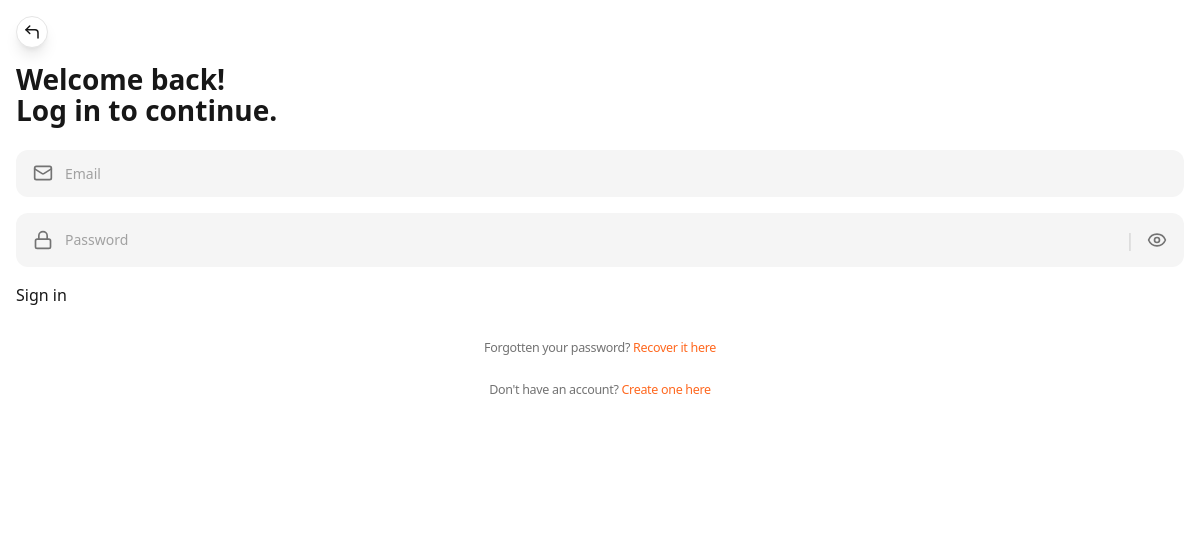
SignInForm › shows a wrong code's reason and keeps the code step
Type "admin@campusmart.test" into the field with placeholder "Email" at (616, 173), box [65,163,1167,184]
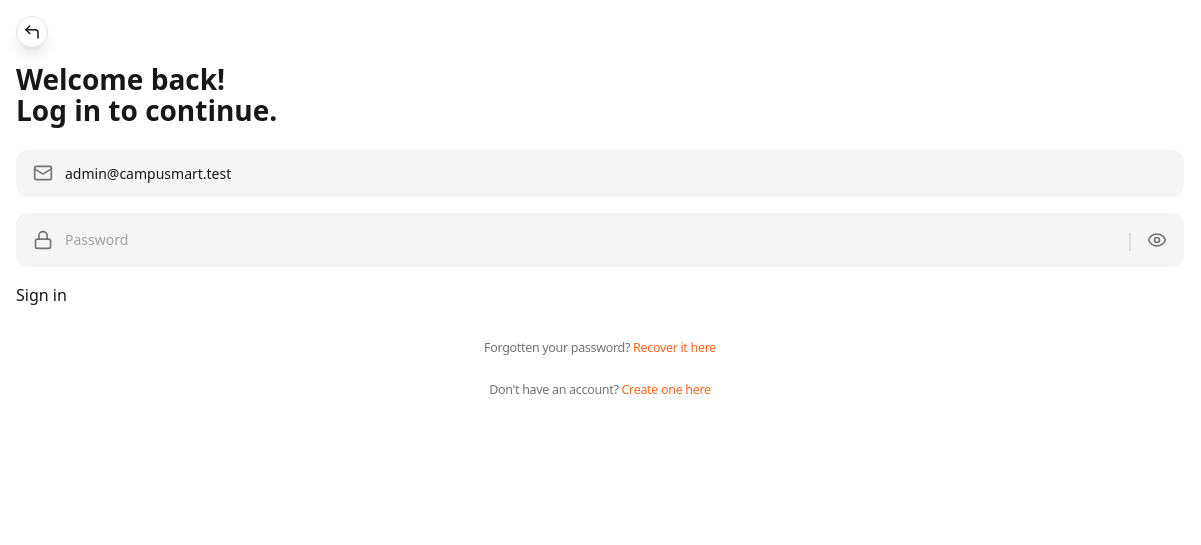
Type "LocalAdmin123" into the password field with placeholder "Password" at (593, 240), box [65,229,1121,250]
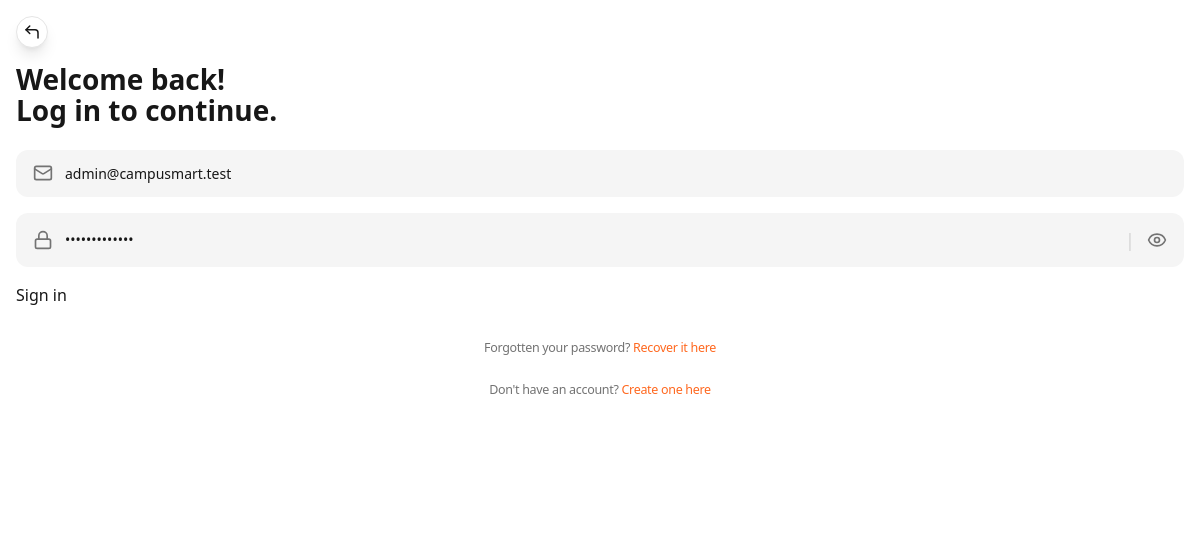
Click the button "Sign in" at (41, 295), box [16,283,67,307]
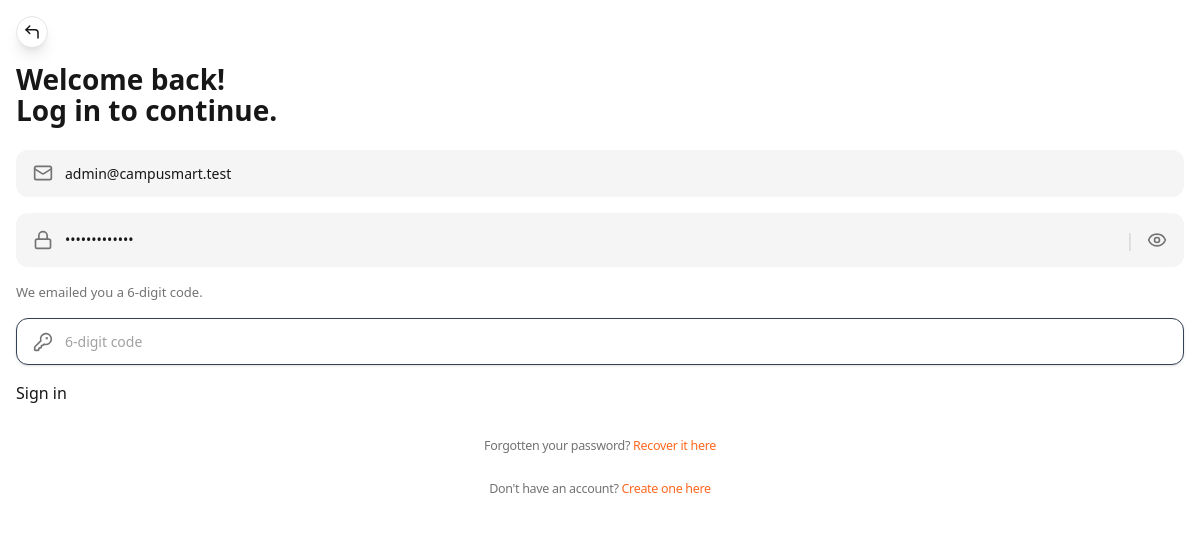
Type "000000" into the field with placeholder "6-digit code" at (616, 342), box [65,331,1167,352]
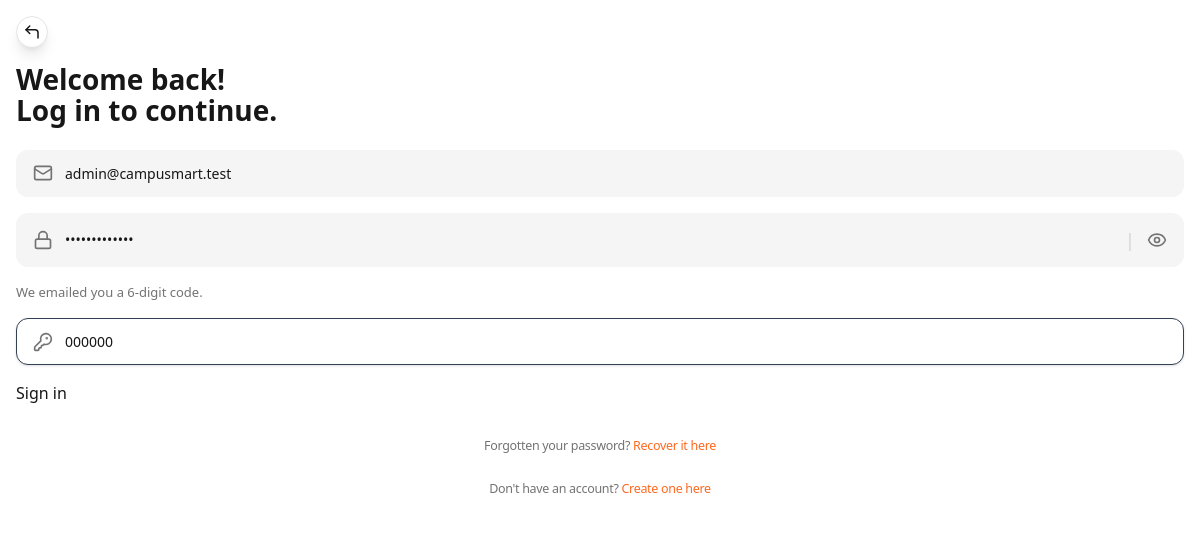
Click the button "Sign in" at (41, 393), box [16,381,67,405]
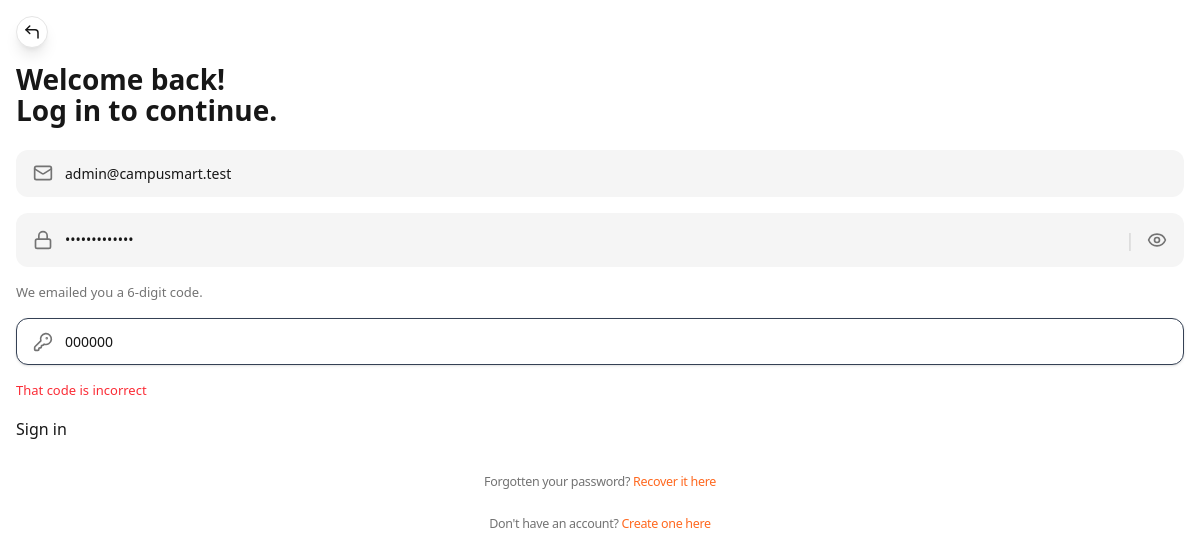
expect the message "That code is incorrect" is shown: met, box [16,381,147,399]
